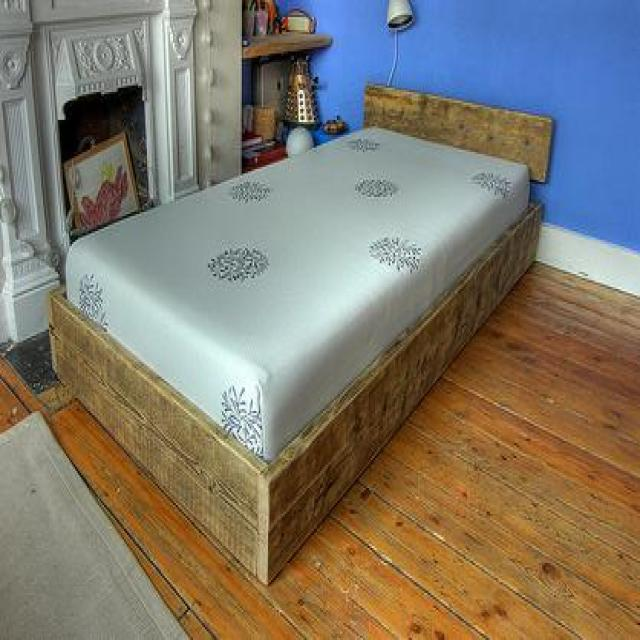bed: (46, 81, 553, 584)
